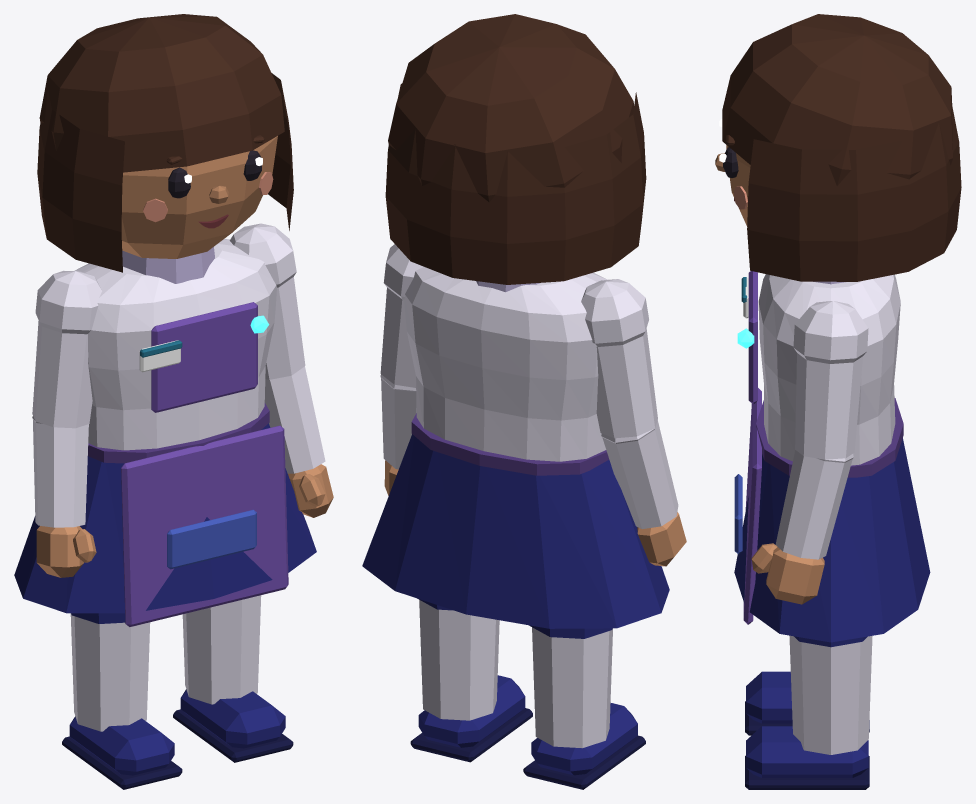
File: kas_pri.glb
3 renders of one model, left to right at view 1: azimuth 30°, elevation 25°; view 2: azimuth 150°, elevation 25°; view 3: azimuth 270°, elevation 25°, orthographic.
Parts seen in each view (by area): view 1: haare, schürze, torso, rock, arm_r, kopf, arm_l, bein_r, bein_l, schuh_r, schuh_l, hand_r (+4 smaller); view 2: haare, rock, torso, arm_r, bein_r, bein_l, arm_l, schuh_l, schuh_r, schürze, hand_r; view 3: haare, rock, arm_l, torso, bein_l, schürze, schuh_l, hand_l, schuh_r, gesicht, kopf.
Boxes of the visible parts, x1=… form: haare: x1=37, y1=14, x2=293, y2=272; schürze: x1=88, y1=302, x2=288, y2=626; torso: x1=74, y1=239, x2=276, y2=450; rock: x1=14, y1=423, x2=316, y2=613; arm_r: x1=32, y1=270, x2=101, y2=527; kopf: x1=121, y1=136, x2=277, y2=258; arm_l: x1=229, y1=223, x2=325, y2=473; bein_r: x1=70, y1=613, x2=150, y2=731; bein_l: x1=182, y1=595, x2=261, y2=704; schuh_r: x1=62, y1=716, x2=182, y2=789; schuh_l: x1=173, y1=689, x2=293, y2=762; hand_r: x1=36, y1=526, x2=96, y2=577; haare: x1=385, y1=14, x2=646, y2=284; rock: x1=362, y1=434, x2=669, y2=628; torso: x1=404, y1=267, x2=607, y2=461; arm_r: x1=581, y1=279, x2=678, y2=528; bein_r: x1=529, y1=625, x2=612, y2=748; bein_l: x1=417, y1=598, x2=499, y2=720; arm_l: x1=380, y1=244, x2=423, y2=469; schuh_l: x1=410, y1=675, x2=532, y2=762; schuh_r: x1=523, y1=703, x2=645, y2=789; schürze: x1=411, y1=413, x2=609, y2=475; hand_r: x1=637, y1=512, x2=686, y2=566; haare: x1=722, y1=14, x2=961, y2=281; rock: x1=734, y1=438, x2=930, y2=642; arm_l: x1=775, y1=301, x2=868, y2=559; torso: x1=758, y1=274, x2=900, y2=465; bein_l: x1=789, y1=635, x2=872, y2=754; schürze: x1=734, y1=271, x2=903, y2=624; schuh_l: x1=745, y1=726, x2=869, y2=789; hand_l: x1=751, y1=543, x2=824, y2=604; schuh_r: x1=745, y1=671, x2=869, y2=735; gesicht: x1=715, y1=119, x2=747, y2=209; kopf: x1=726, y1=145, x2=750, y2=226.
Bounding box in the file's own units: 0.0103 × 0.0245 × 0.00763.
